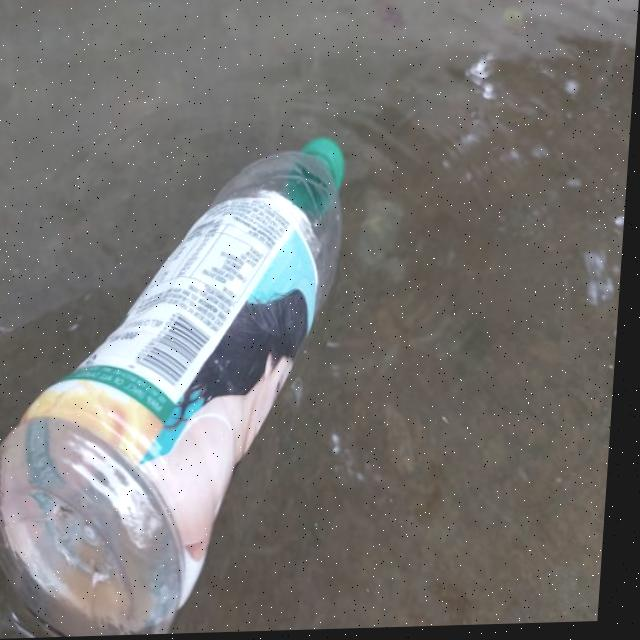waterbottle: (0, 128, 386, 640)
